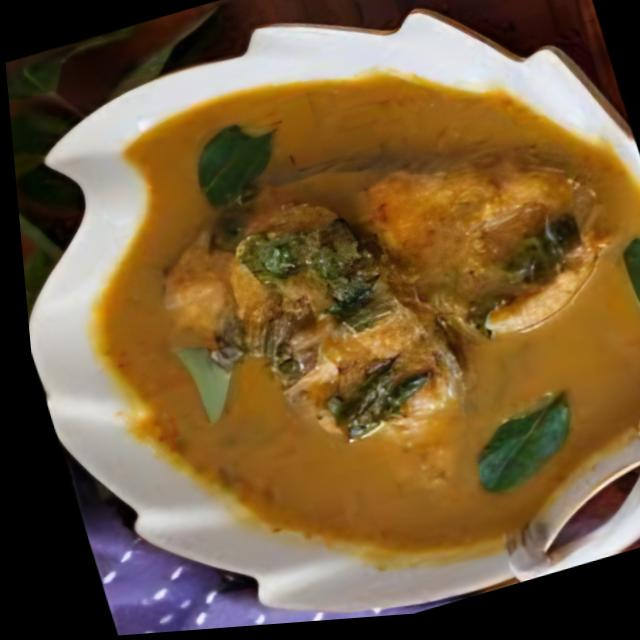FISH CURRY: (94, 73, 640, 561)
